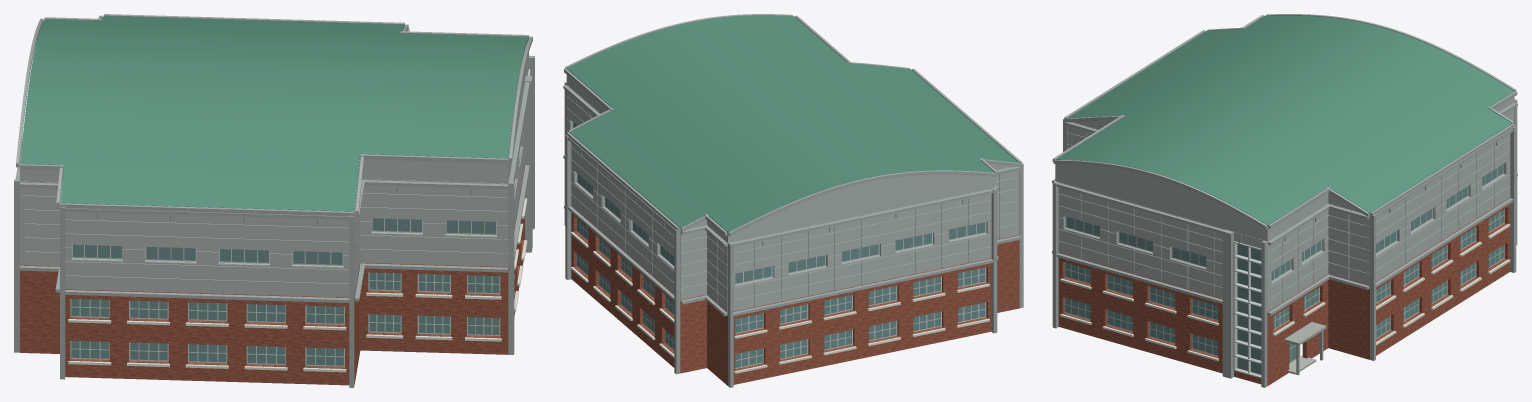
The picture shows the model from 3 angles, left to right: view 1: azimuth 30°, elevation 25°; view 2: azimuth 150°, elevation 25°; view 3: azimuth 270°, elevation 25°; orthographic projection. The views are drawn at different scales.
Parts seen in each view (by area): view 1: gym__roof, gym__panel, gym__brick, gym__pier, gym__glass, gym__frame, gym__white; view 2: gym__roof, gym__panel, gym__brick, gym__pier, gym__glass, gym__frame, gym__white; view 3: gym__roof, gym__panel, gym__brick, gym__pier, gym__glass, gym__frame, gym__white, gym__soffit.
Part boxes in pixels (x1,y1,x2,y2): gym__roof: (20,16,528,212); gym__panel: (20,40,528,297); gym__brick: (20,166,524,385); gym__pier: (14,14,534,387); gym__glass: (71,218,499,365); gym__frame: (70,69,530,366); gym__white: (68,198,527,372); gym__roof: (567,15,1018,233); gym__panel: (566,75,1019,312); gym__brick: (571,206,1019,385); gym__pier: (563,14,1023,387); gym__glass: (573,123,985,367); gym__frame: (573,122,986,368); gym__white: (570,231,989,373); gym__roof: (1056,15,1514,226); gym__panel: (1055,97,1514,311); gym__brick: (1058,198,1510,386); gym__pier: (1052,14,1517,387); gym__glass: (1065,164,1503,374); gym__frame: (1064,164,1504,378); gym__white: (1060,224,1510,361); gym__soffit: (1284,322,1326,345).
Size of the model in its own units: 42.78 by 16.92 by 39.34.
Materials: 10 (1 with a texture image).
